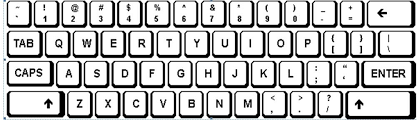keyboard: (2, 1, 411, 121)
